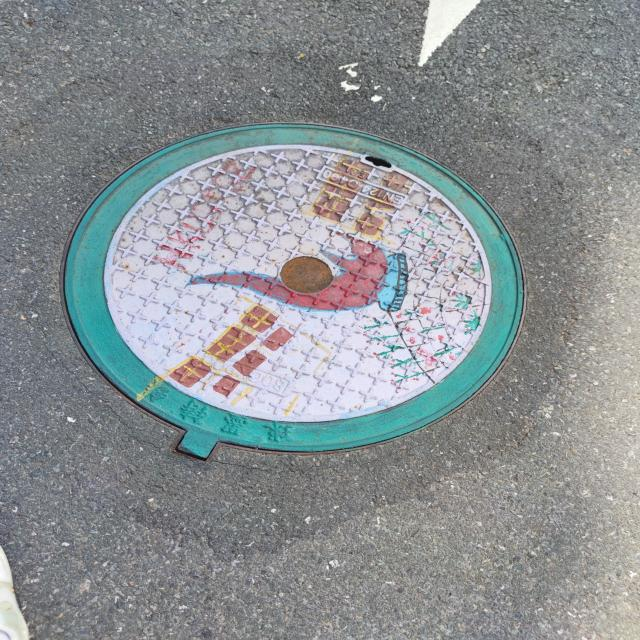Good: (51, 117, 534, 468)
